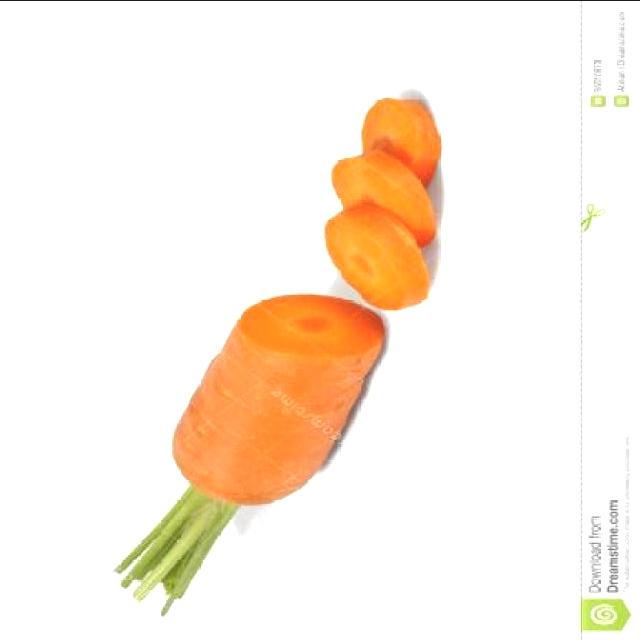carrot: (162, 288, 394, 508)
